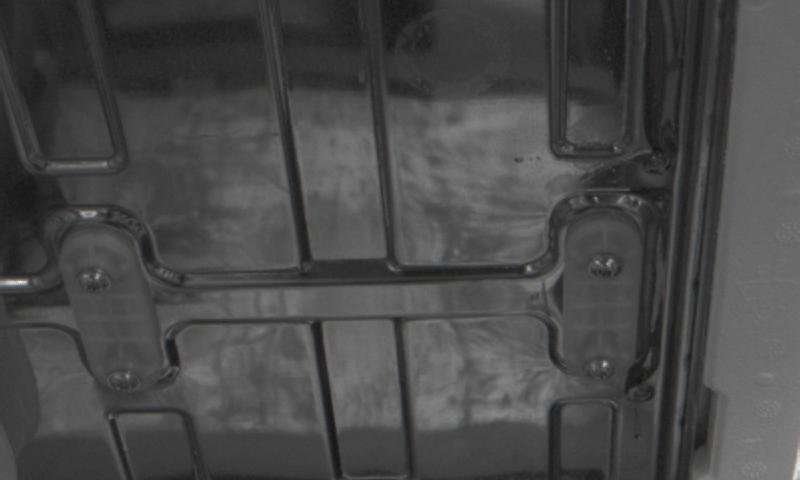vida-ok: (583, 247, 627, 292), (75, 256, 115, 301), (106, 364, 148, 404), (579, 348, 619, 387)
